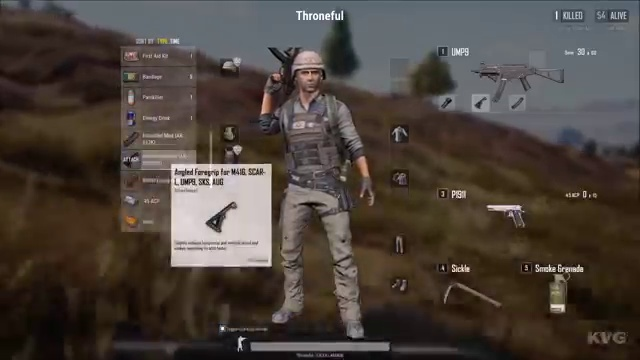Player: (260, 44, 382, 328)
